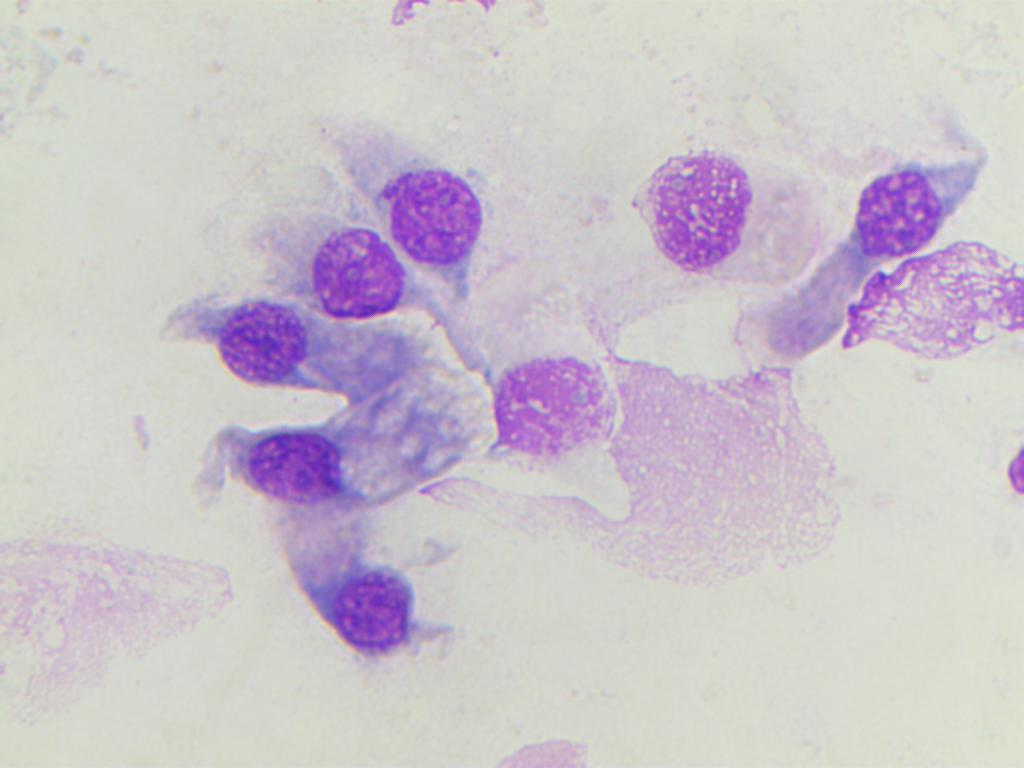artifact: (838, 235, 1024, 369)
ciliated: (753, 163, 956, 369), (191, 380, 465, 516), (196, 299, 487, 409), (263, 501, 416, 652)
epithelial: (482, 350, 614, 458), (641, 151, 754, 275), (375, 161, 477, 271)
goblet_cell: (310, 229, 426, 377)
